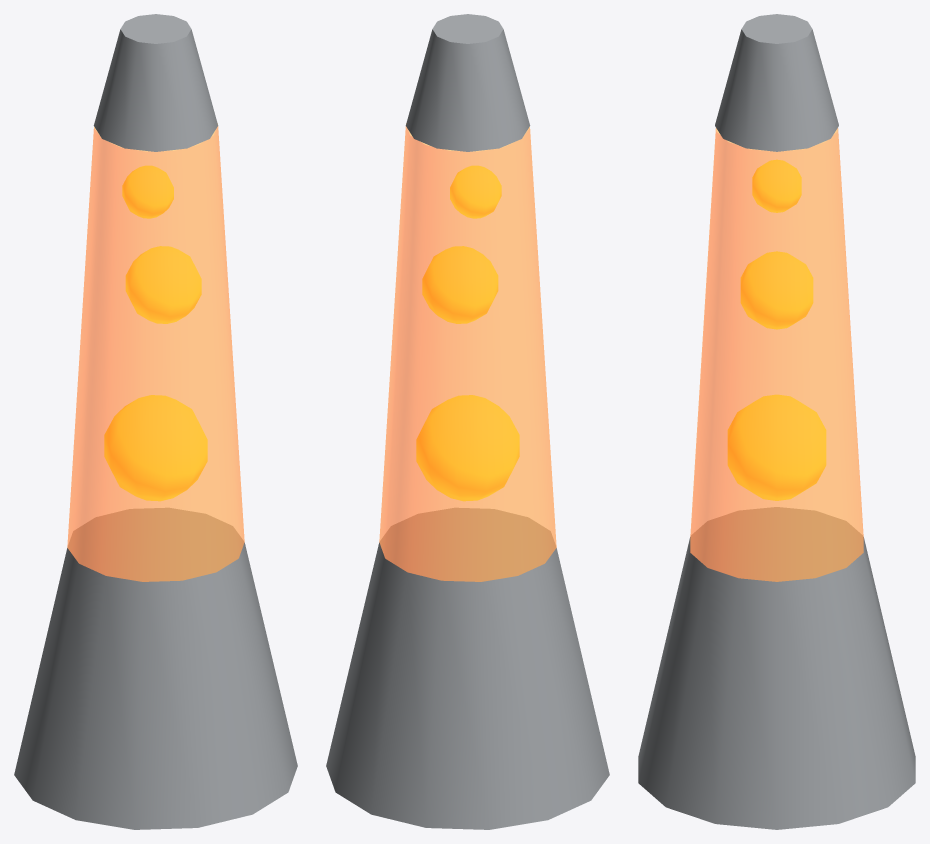
Rendered from lamp_lava.glb.
The picture shows the model from 3 angles, left to right: view 1: azimuth 30°, elevation 25°; view 2: azimuth 150°, elevation 25°; view 3: azimuth 270°, elevation 25°; orthographic projection.
Parts seen in each view (by area): view 1: lava_lamp; view 2: lava_lamp; view 3: lava_lamp.
Boxes of the visible parts, x1,y1,x2,y2 form: lava_lamp: [14, 14, 297, 829]; lava_lamp: [326, 14, 609, 829]; lava_lamp: [638, 14, 915, 829].
Size of the model in its own units: 0.16 by 0.46 by 0.156.
